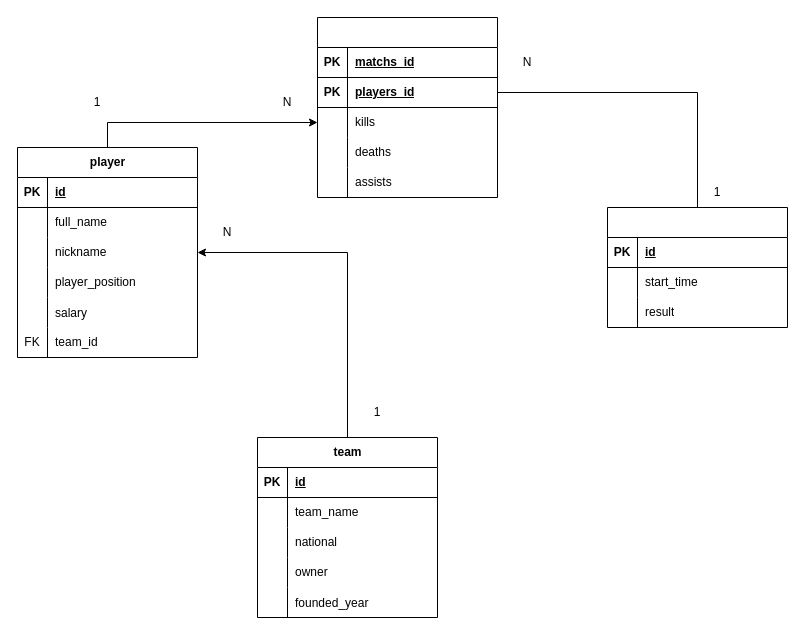
Some shapes in this 805 by 635 pixel diagram are drawn without their labels. Each missing label, with the box of its shape:
match_statistic: (316, 16, 498, 198)
matchs: (606, 206, 788, 328)
